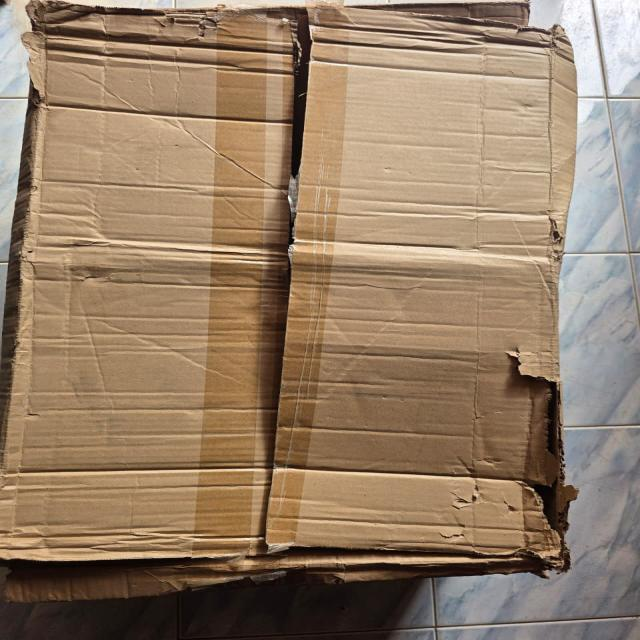carton_box: (4, 0, 597, 620)
package_damage: (243, 0, 335, 563), (2, 0, 597, 64), (487, 334, 613, 587), (415, 456, 592, 604), (74, 0, 266, 66)
